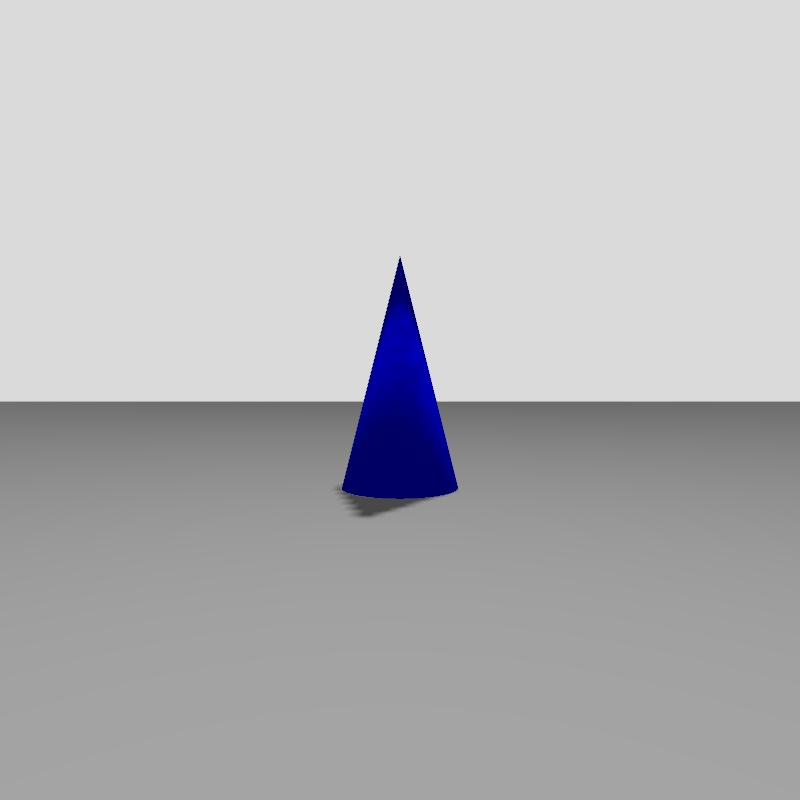Blue_cone: (342, 259, 457, 498)
